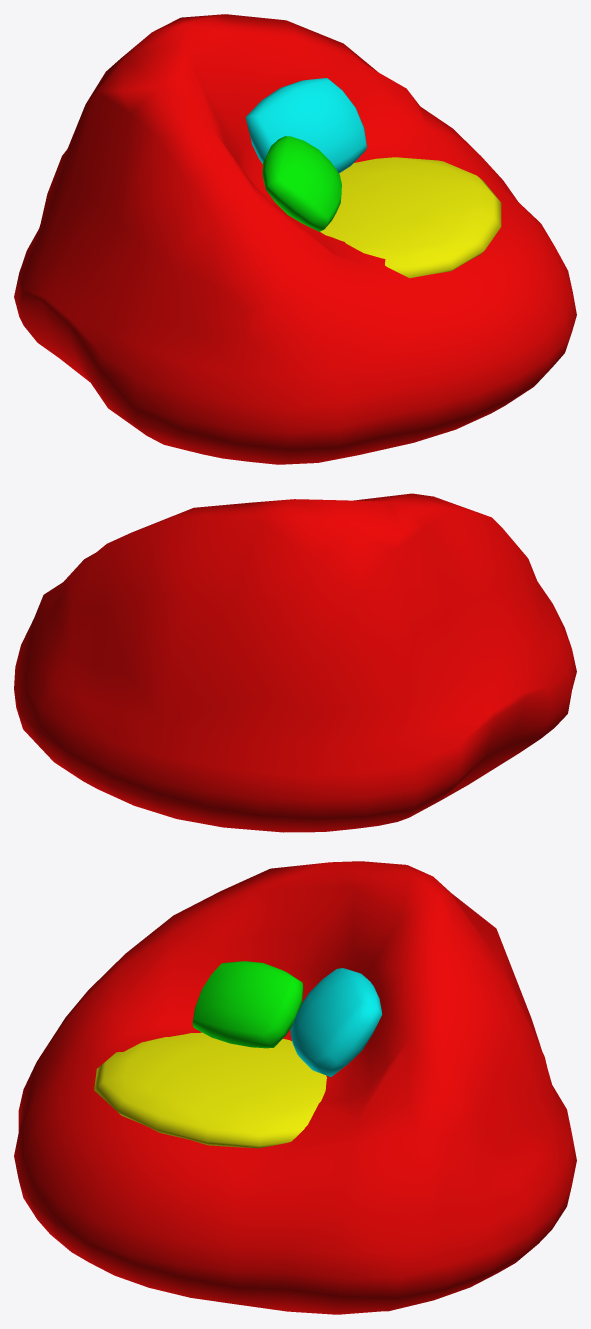
Rendered from Chair.fbx.
3 renders of one model, top to bottom at view 1: azimuth 30°, elevation 25°; view 2: azimuth 150°, elevation 25°; view 3: azimuth 270°, elevation 25°, orthographic. The views are drawn at different scales.
Visible parts, largest first — view 1: pCube3, pCube4, pCube5, pCube6; view 2: pCube3; view 3: pCube3, pCube4, pCube6, pCube5.
Part boxes in pixels (x1,y1,x2,y2): pCube3: (14,14,576,464); pCube4: (320,157,501,278); pCube5: (245,78,366,173); pCube6: (262,136,341,231); pCube3: (14,493,576,832); pCube3: (14,861,576,1314); pCube4: (94,1032,326,1148); pCube6: (192,961,303,1048); pCube5: (290,968,382,1076).
Bounding box in the file's own units: 264 × 181 × 265.
